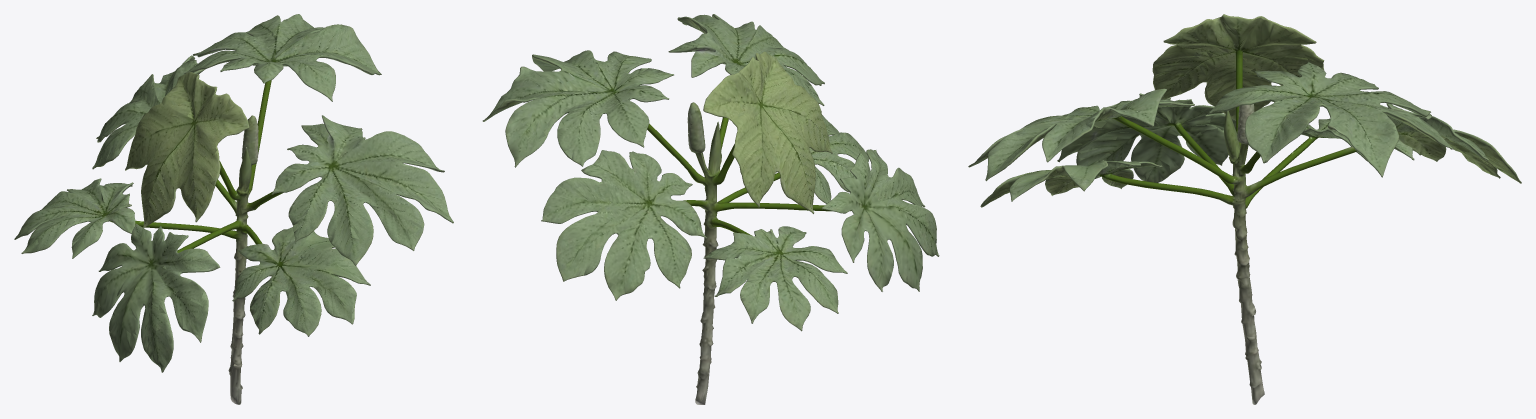
The model's file is planta_colobura_tipo_1.fbx.
3 views of the same model, side by side, from view 1: azimuth 30°, elevation 25°; view 2: azimuth 150°, elevation 25°; view 3: azimuth 270°, elevation 25° (orthographic). The views are drawn at different scales.
Parts seen in each view (by area): view 1: tripo_node_adf31deb; view 2: tripo_node_adf31deb; view 3: tripo_node_adf31deb.
Part boxes in pixels (x1,y1,x2,y2): tripo_node_adf31deb: (14, 14, 453, 404); tripo_node_adf31deb: (482, 14, 939, 404); tripo_node_adf31deb: (968, 14, 1521, 404).
Bounding box in the file's own units: 9.33 × 9.13 × 12.38.
Materials: 1 (1 with a texture image).
